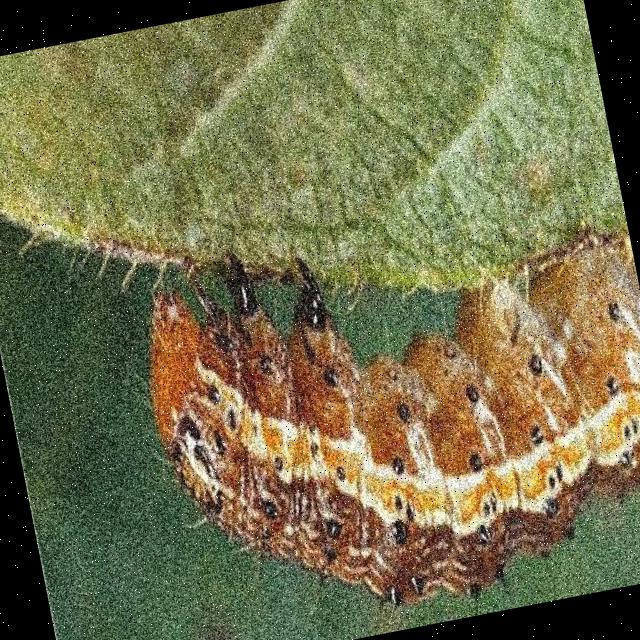worm: (123, 171, 640, 640)
